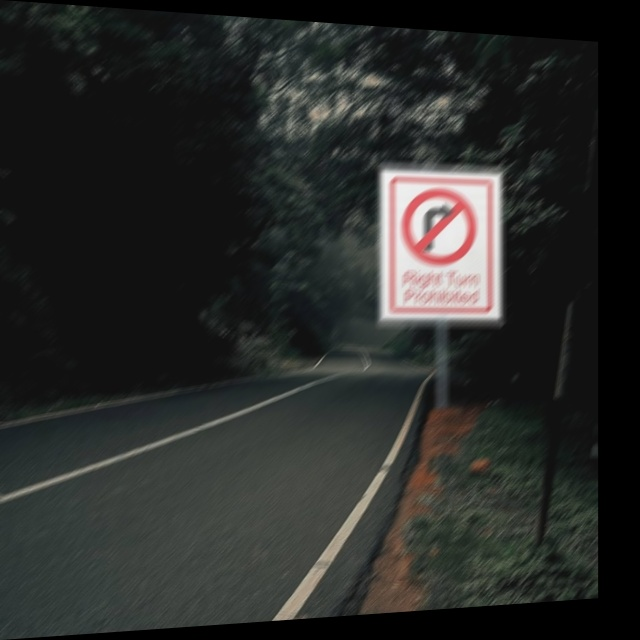Right_Turn_Prohibited: (393, 181, 487, 270)
